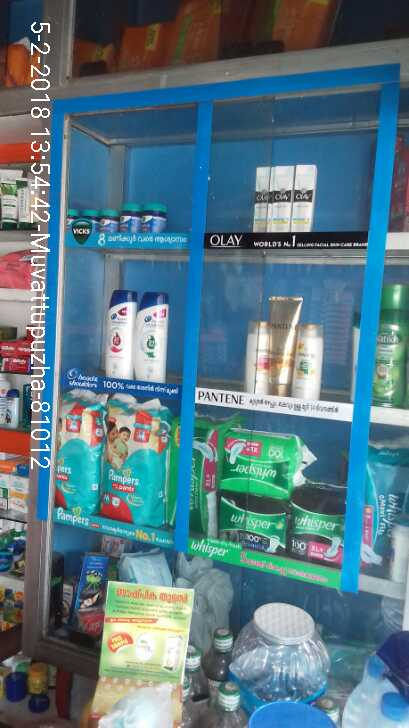vicks: (63, 201, 173, 235)
